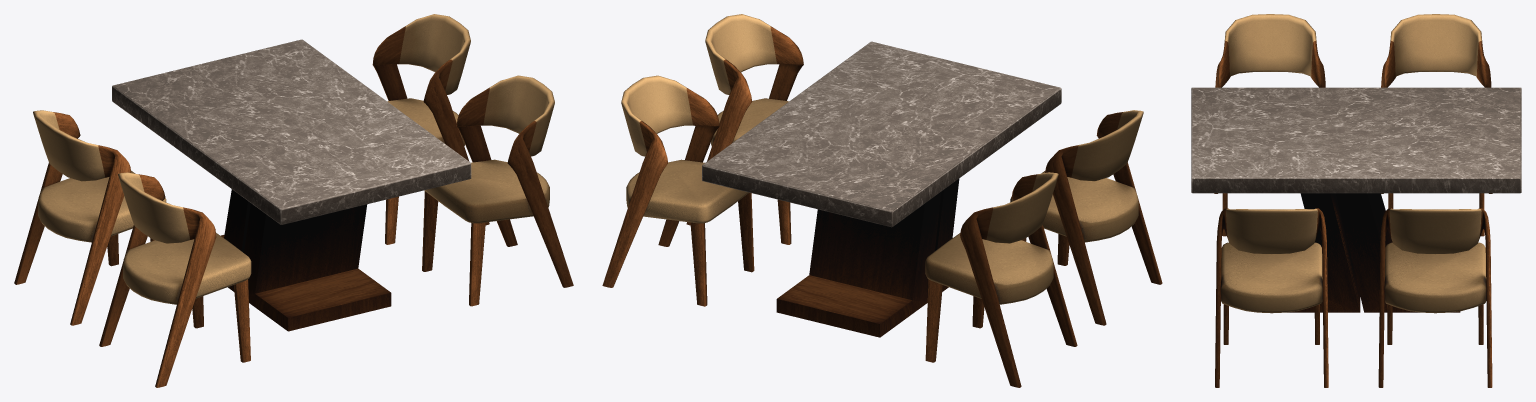
Rendered from Four_Seater_Dining_Table_04.fbx.
The picture shows the model from 3 angles, left to right: view 1: azimuth 30°, elevation 25°; view 2: azimuth 150°, elevation 25°; view 3: azimuth 270°, elevation 25°; orthographic projection. The views are drawn at different scales.
Visible parts, largest first — view 1: Table; view 2: Table; view 3: Table.
Boxes of the visible parts, left/top/right/bottom form: Table: left=14, top=14, right=573, bottom=387; Table: left=602, top=14, right=1162, bottom=387; Table: left=1191, top=14, right=1521, bottom=387.
Size of the model in its own units: 219 by 90.61 by 154.
1 material, 1 textured.
